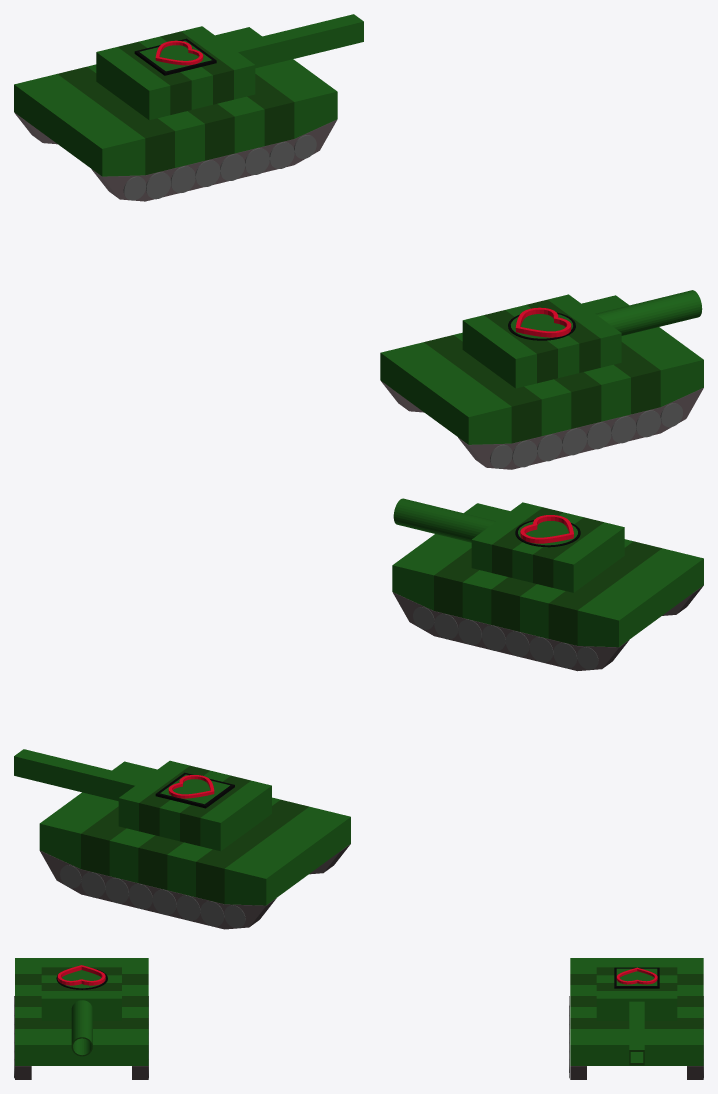
The model's file is HealerTanks.fbx.
3 renders of one model, top to bottom at view 1: azimuth 30°, elevation 25°; view 2: azimuth 150°, elevation 25°; view 3: azimuth 270°, elevation 25°, orthographic. The views are drawn at different scales.
Parts seen in each view (by area): view 1: Tank.003, HealerTank; view 2: Tank.003, HealerTank; view 3: HealerTank, Tank.003.
Boxes of the visible parts, left/top/right/bottom form: Tank.003: left=14, top=14, right=363, bottom=201; HealerTank: left=380, top=290, right=703, bottom=469; Tank.003: left=14, top=749, right=350, bottom=929; HealerTank: left=392, top=498, right=703, bottom=671; HealerTank: left=14, top=958, right=148, bottom=1079; Tank.003: left=569, top=958, right=703, bottom=1079.
Size of the model in its own units: 44.74 by 5.32 by 17.06.
